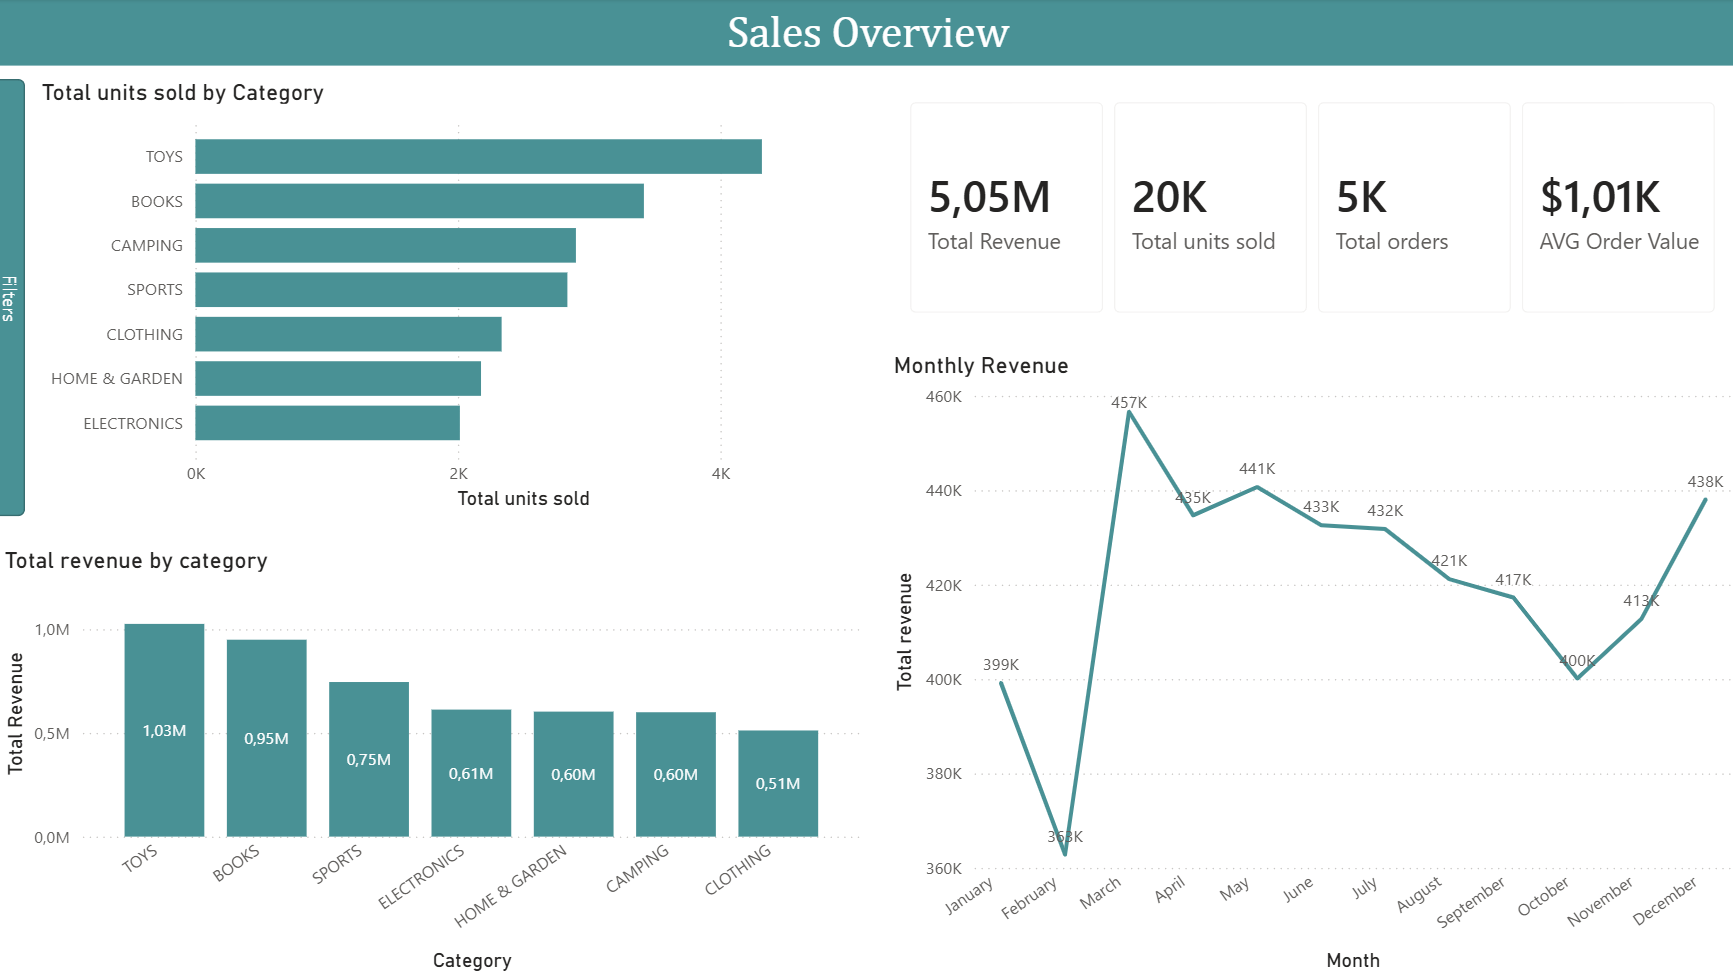

The dashboard page shown, as its layout file describes it:
{"tool":"powerbi","page":{"name":"Sales Overview","canvas":[1280,720],"ordinal":0},"visuals":[{"type":"lineChart","title":"Monthly Revenue","fields":{"Y":["Sum(monthly_revenue.total_revenue)"],"Category":["monthly_revenue.month_name"]},"box":[654,258.9,626,461.2],"z":0},{"type":"columnChart","title":"Total revenue by category","fields":{"Category":["sales_by_category.category"],"Y":["Sum(sales_by_category.total_revenue)"]},"box":[0,402.4,640,317.8],"z":1000},{"type":"cardVisual","fields":{"Data":["Sum(sales_by_category.total_revenue)","Sum(sales_by_category.total_units_sold)","top_customers.Total number of orders","sales_by_category.AVG Order Value"]},"box":[654,58.9,626,189.8],"z":2000},{"type":"textbox","box":[0,0,1280,48.6],"z":3000},{"type":"clusteredBarChart","fields":{"Category":["sales_by_category.category"],"Y":["Sum(sales_by_category.total_units_sold)"]},"box":[27.2,58.1,612.8,322.2],"z":4000},{"type":"shape","title":"Slicer_ShowBox","box":[0,58.7,19.9,321.6],"z":7000,"group":"g1"},{"type":"group","id":"g1","title":"Slicers","box":[0,58.1,300.1,322.2],"z":8001}]}

Visuals, with their boxes in screenshot pixels (x1, y1, x2, y2), scaled from the page's 1280x720 canvas onto the 1733x973 screenshot:
"Monthly Revenue" lineChart: box(885, 350, 1732, 972)
"Total revenue by category" columnChart: box(0, 544, 866, 972)
cardVisual - Sum(sales_by_category.total_revenue) x Sum(sales_by_category.total_units_sold): box(885, 80, 1732, 336)
textbox: box(0, 0, 1732, 66)
clusteredBarChart - sales_by_category.category x Sum(sales_by_category.total_units_sold): box(37, 79, 866, 514)
"Slicer_ShowBox" shape: box(0, 79, 27, 514)
"Slicers" group: box(0, 79, 406, 514)
